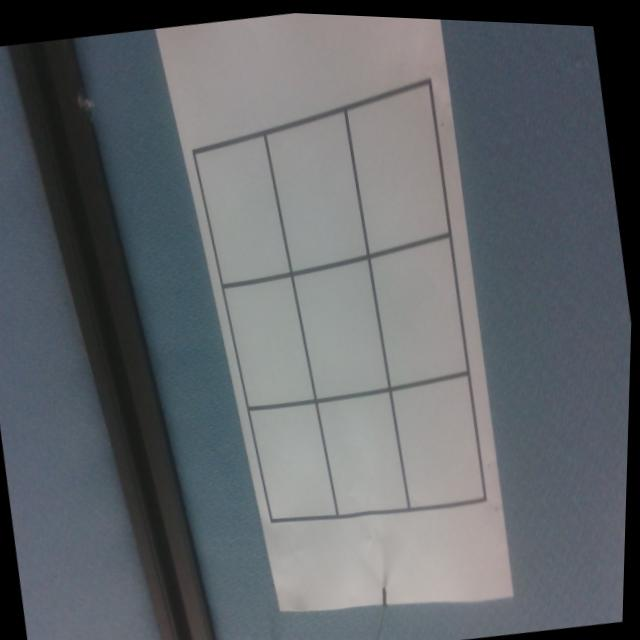null: (340, 74, 455, 256), (259, 99, 375, 275), (191, 126, 297, 291), (367, 228, 471, 385), (289, 250, 395, 403), (390, 365, 490, 510), (222, 266, 319, 410), (317, 385, 413, 517), (249, 391, 341, 525)
table: (173, 54, 506, 553)
